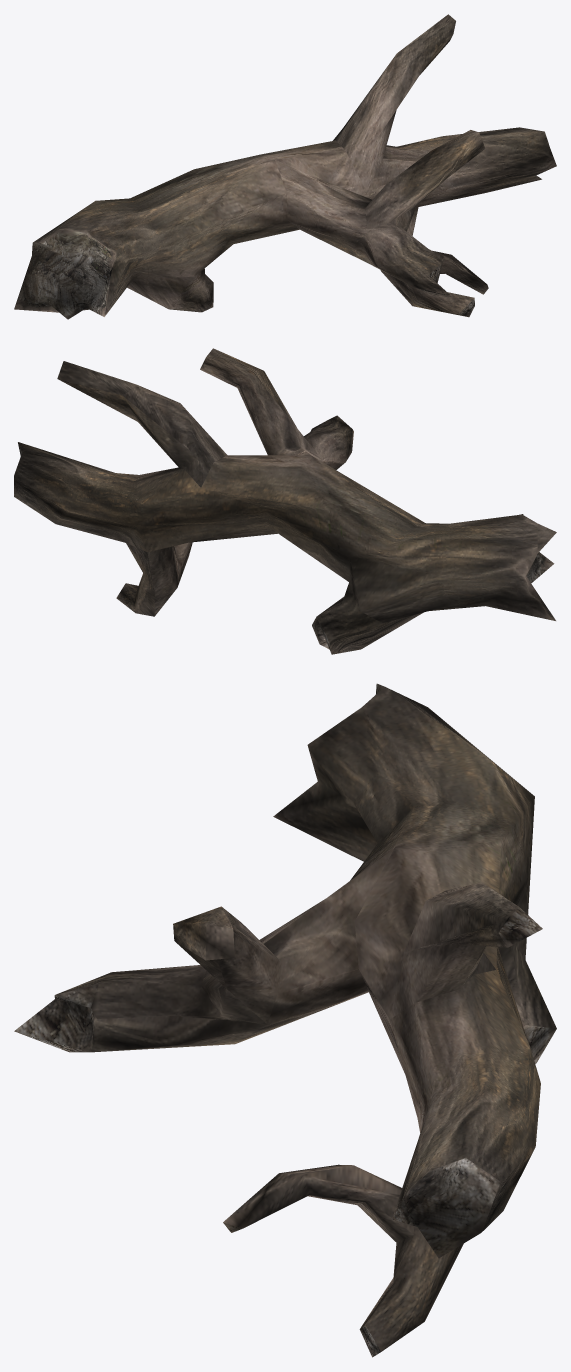
Rendered from BROKEN TREE.fbx.
The picture shows the model from 3 angles, top to bottom: view 1: azimuth 30°, elevation 25°; view 2: azimuth 150°, elevation 25°; view 3: azimuth 270°, elevation 25°; orthographic projection. The views are drawn at different scales.
Visible parts, largest first — view 1: model_0; view 2: model_0; view 3: model_0.
Part boxes in pixels (left/top/right/bottom): model_0: left=14, top=14, right=556, bottom=319; model_0: left=14, top=348, right=556, bottom=654; model_0: left=14, top=683, right=556, bottom=1357.
Bounding box in the file's own units: 2383 × 1143 × 1200.
